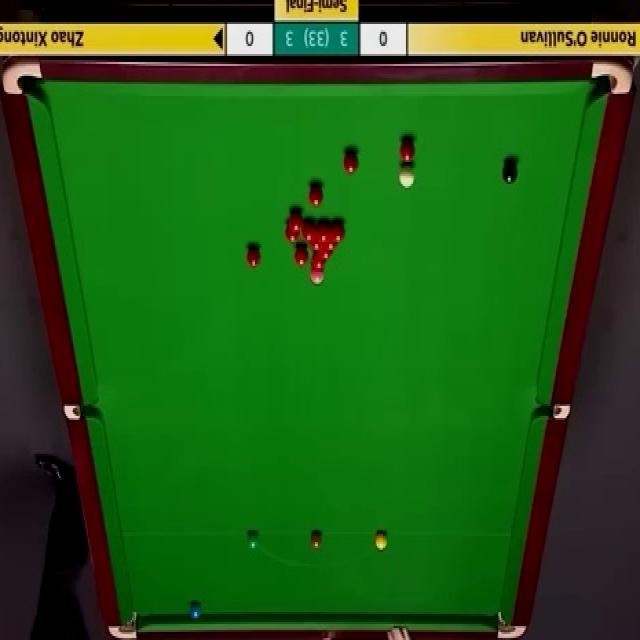pocket: (1, 55, 43, 97), (589, 57, 635, 95), (108, 608, 140, 640), (493, 611, 528, 640), (534, 404, 572, 422), (64, 405, 99, 420)
